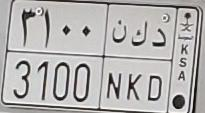0: (73, 25, 93, 103), (52, 24, 72, 101)
1: (38, 9, 51, 102)
3: (13, 7, 37, 99)
D: (147, 28, 167, 102)
K: (127, 20, 148, 100)
N: (106, 19, 128, 100)
